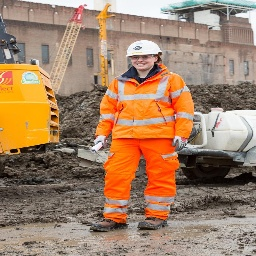helmet: (119, 41, 169, 58)
person: (103, 39, 199, 236)
vest: (100, 70, 193, 157)
